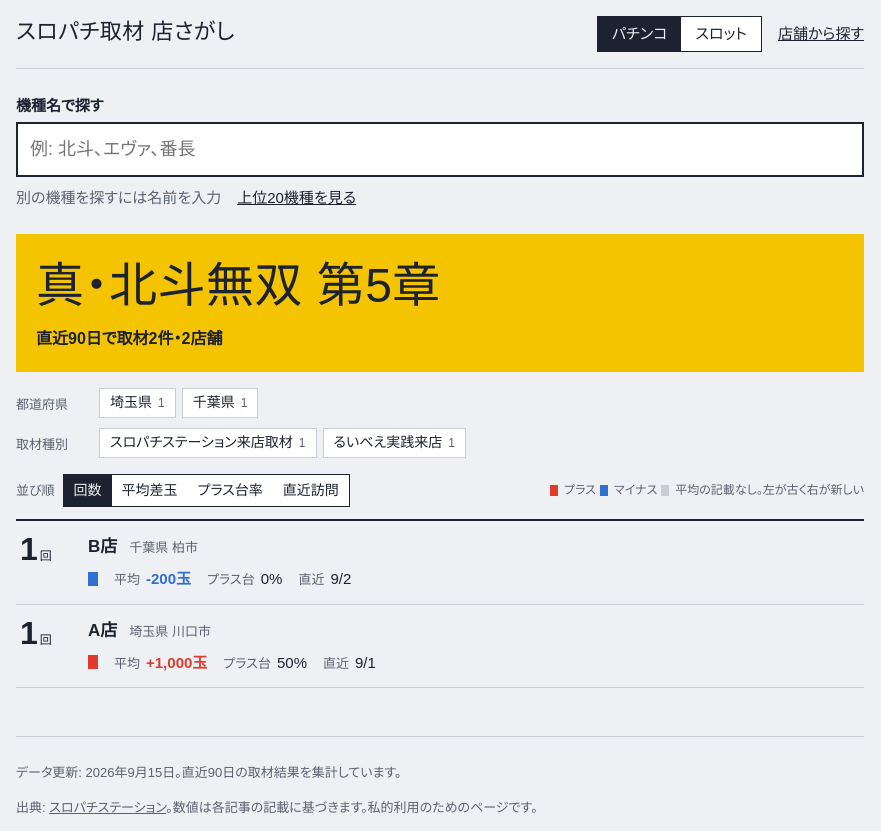
Scenario: App › 都道府県で絞り込める
The image size is (881, 831).
Expected: the heading "真・北斗無双 第5章" is shown, [36,259,441,312]
Click the button "千葉県 1" at (220, 403), box [182,388,258,418]
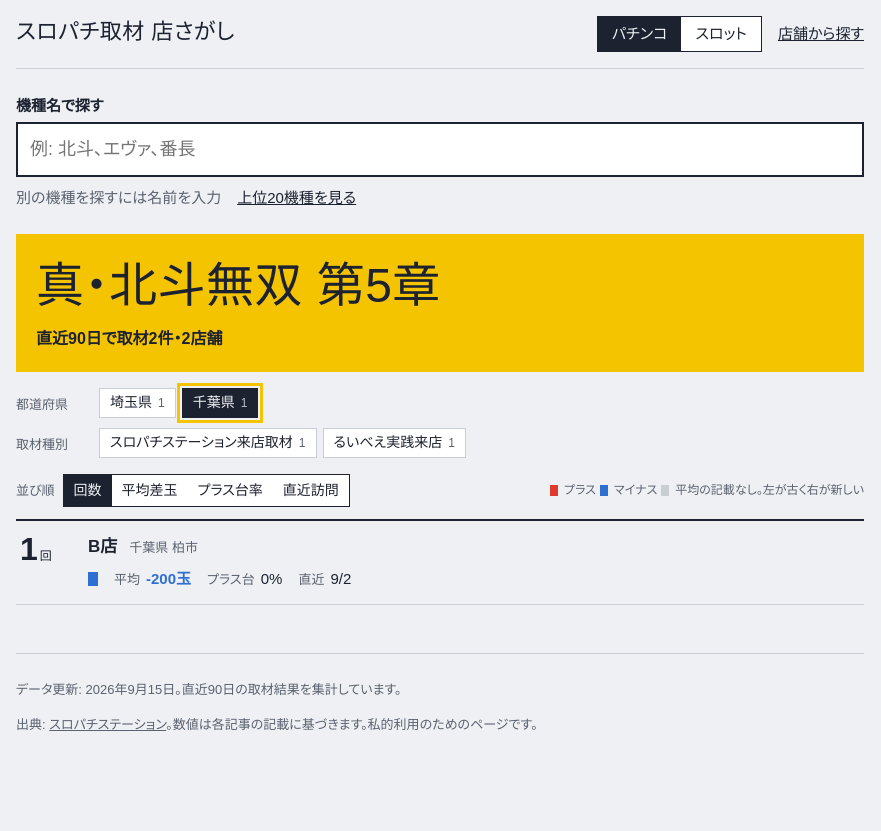
Expected: the text "B店" is shown, [88,534,117,562]
Expected: the number of list items is 1, [16,522,864,605]
